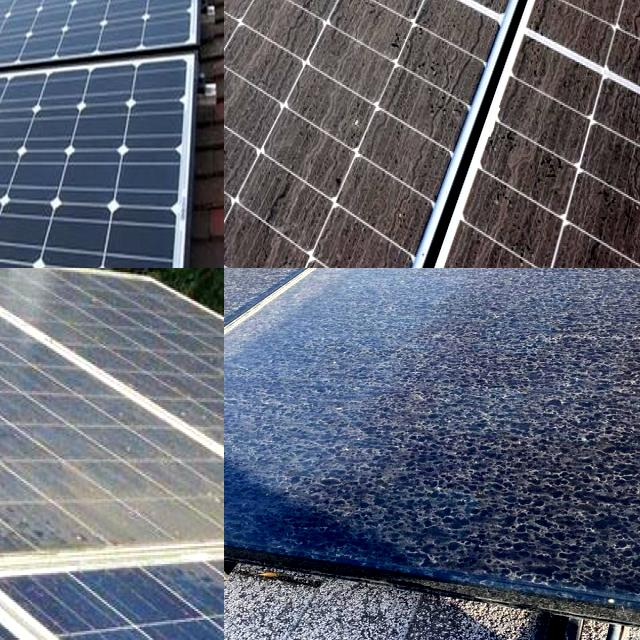crack: (0, 57, 224, 268), (0, 0, 214, 122), (0, 0, 115, 100), (0, 0, 90, 67), (0, 0, 77, 51)
dust: (261, 321, 419, 546), (302, 0, 409, 268), (509, 317, 640, 503), (519, 72, 640, 268), (422, 342, 504, 558), (0, 474, 224, 542), (332, 0, 529, 70), (224, 152, 342, 268), (224, 0, 338, 98), (552, 510, 640, 600), (143, 549, 224, 640), (224, 365, 270, 525), (64, 278, 154, 355), (0, 337, 59, 454), (44, 392, 118, 482), (168, 360, 224, 473), (224, 0, 315, 60), (511, 268, 640, 310), (224, 268, 378, 302), (401, 268, 495, 323), (581, 0, 640, 67), (520, 268, 640, 299), (224, 268, 252, 323), (224, 0, 261, 38), (529, 268, 640, 280)
